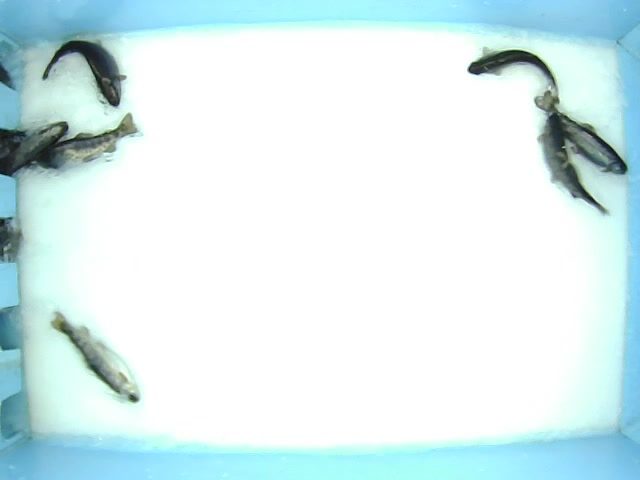fish: (50, 311, 142, 405), (533, 90, 629, 176), (537, 112, 610, 218), (40, 40, 128, 109), (39, 109, 140, 168), (468, 46, 561, 106)
